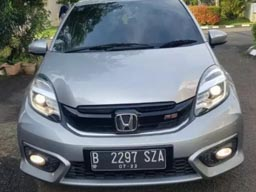plat: (90, 150, 165, 164)
